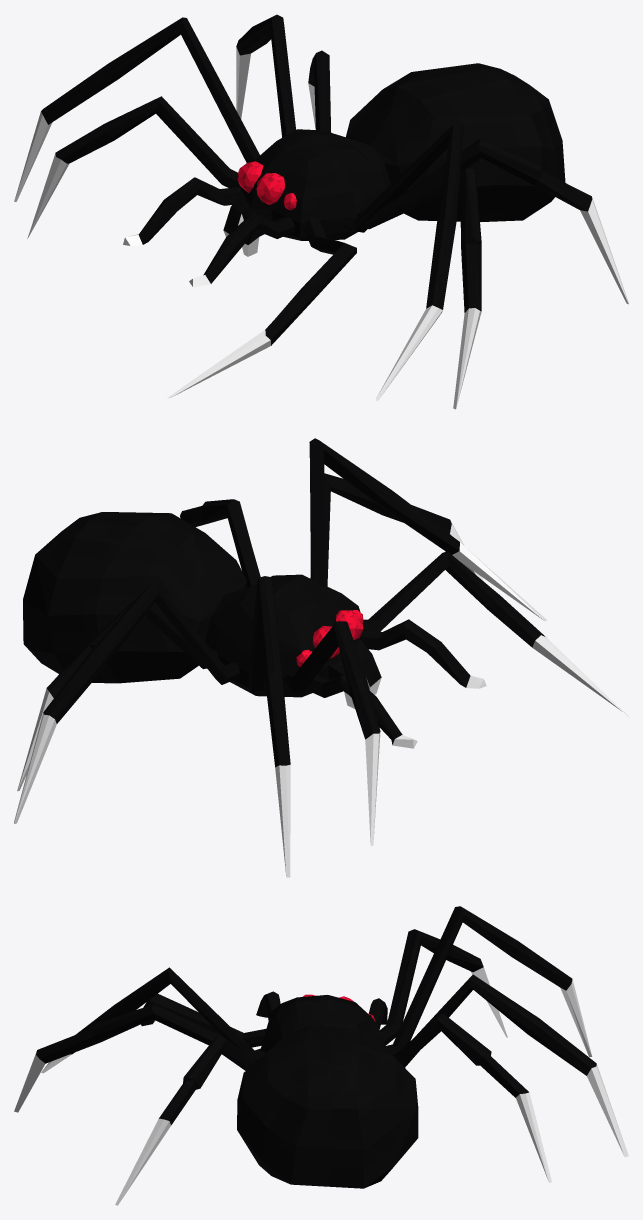
The model's file is spiderWalking2.obj.
3 views of the same model, one above another, from view 1: azimuth 30°, elevation 25°; view 2: azimuth 150°, elevation 25°; view 3: azimuth 270°, elevation 25° (orthographic). The views are drawn at different scales.
Visible parts, largest first — view 1: Cube.001_Cube.002; view 2: Cube.001_Cube.002; view 3: Cube.001_Cube.002.
Part boxes in pixels (x1,y1,x2,y2): Cube.001_Cube.002: (14, 14, 628, 409); Cube.001_Cube.002: (14, 438, 628, 877); Cube.001_Cube.002: (14, 906, 628, 1205).
Size of the model in its own units: 27.56 by 12.08 by 34.62.
